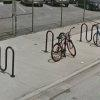Bicycle: (47, 23, 85, 65)
